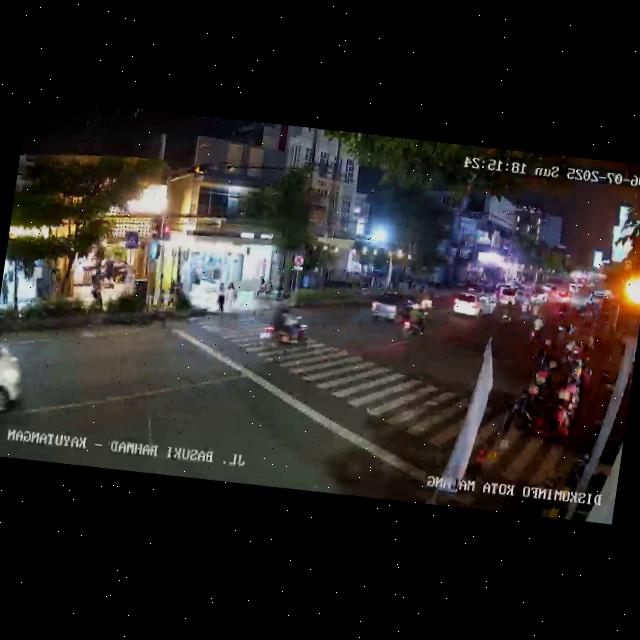car: (0, 338, 29, 432), (368, 289, 420, 330), (448, 288, 499, 325), (495, 282, 520, 306)
motorcycle: (257, 301, 313, 357), (398, 300, 430, 342), (527, 309, 547, 344), (498, 301, 515, 329), (518, 293, 534, 317)
person: (225, 279, 240, 312), (89, 272, 102, 307), (215, 284, 228, 315), (0, 275, 11, 305)
